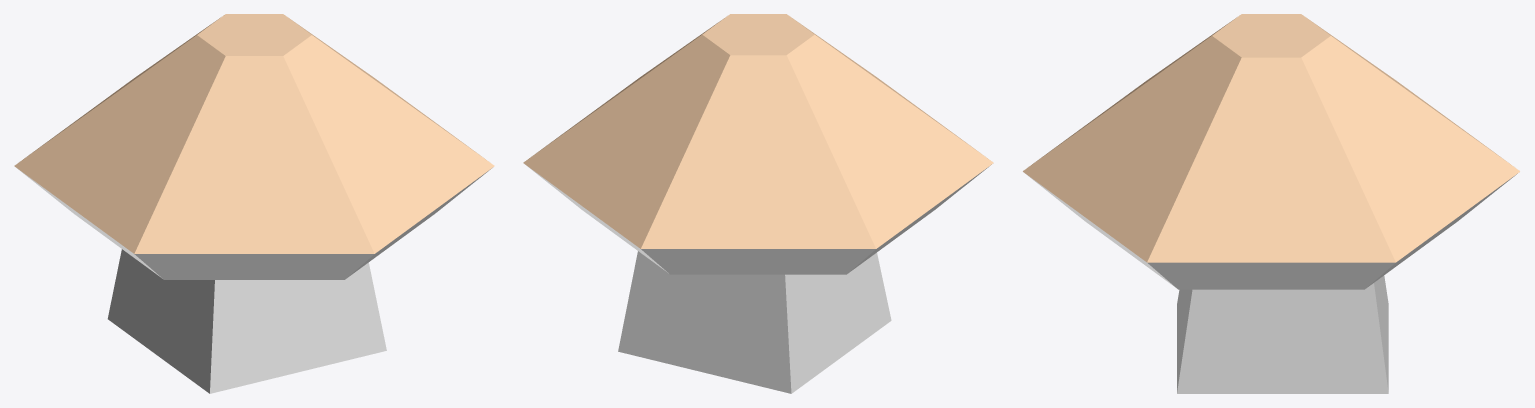
The model's file is mushroom_tan.glb.
3 views of the same model, side by side, from view 1: azimuth 30°, elevation 25°; view 2: azimuth 150°, elevation 25°; view 3: azimuth 270°, elevation 25° (orthographic). The views are drawn at different scales.
Parts seen in each view (by area): view 1: mushroom_tan; view 2: mushroom_tan; view 3: mushroom_tan.
Boxes of the visible parts, x1,y1,x2,y2 form: mushroom_tan: (14, 14, 494, 393); mushroom_tan: (523, 14, 993, 393); mushroom_tan: (1023, 14, 1519, 393).
Size of the model in its own units: 0.1914 by 0.1539 by 0.221.
